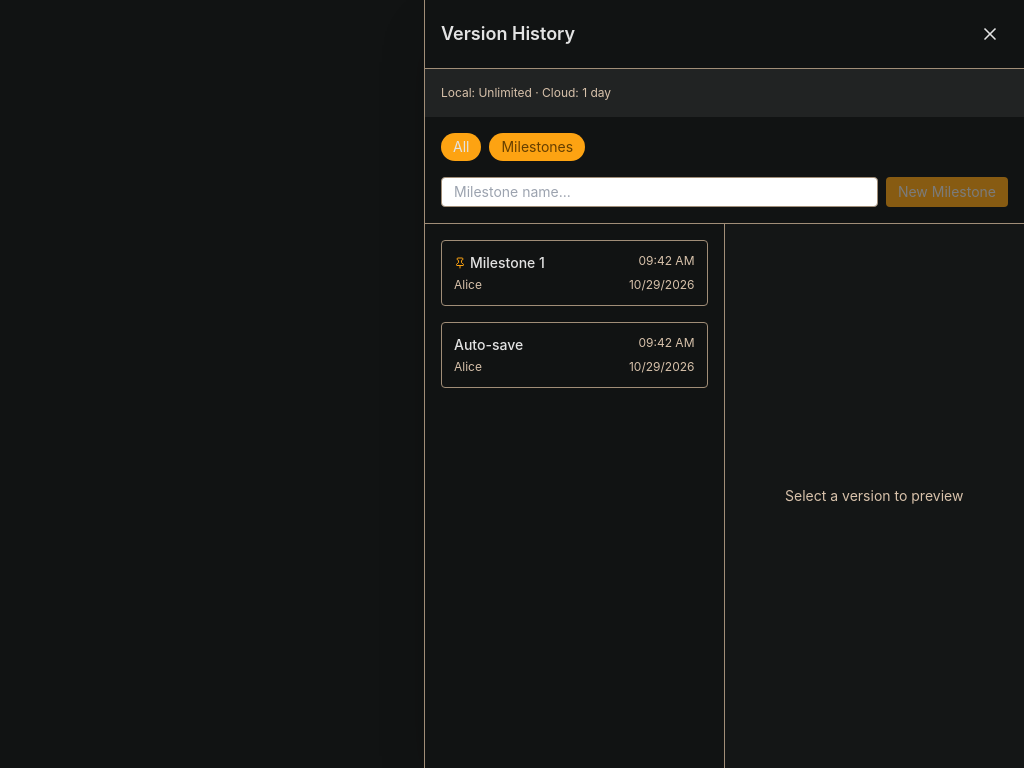
Scenario: VersionHistory UI › VersionDrawer › lists versions and filters by milestone
Check: the text "Milestone 1" is shown, box [470,253,545,273]
Check: the text "Auto-save" is shown, box [454,335,523,355]
Note: Filter to milestones
What coordinates should you click on to do the following:
click the tab "Milestones"
I would click on:
 (537, 147)
Its box is [490,133,585,161].
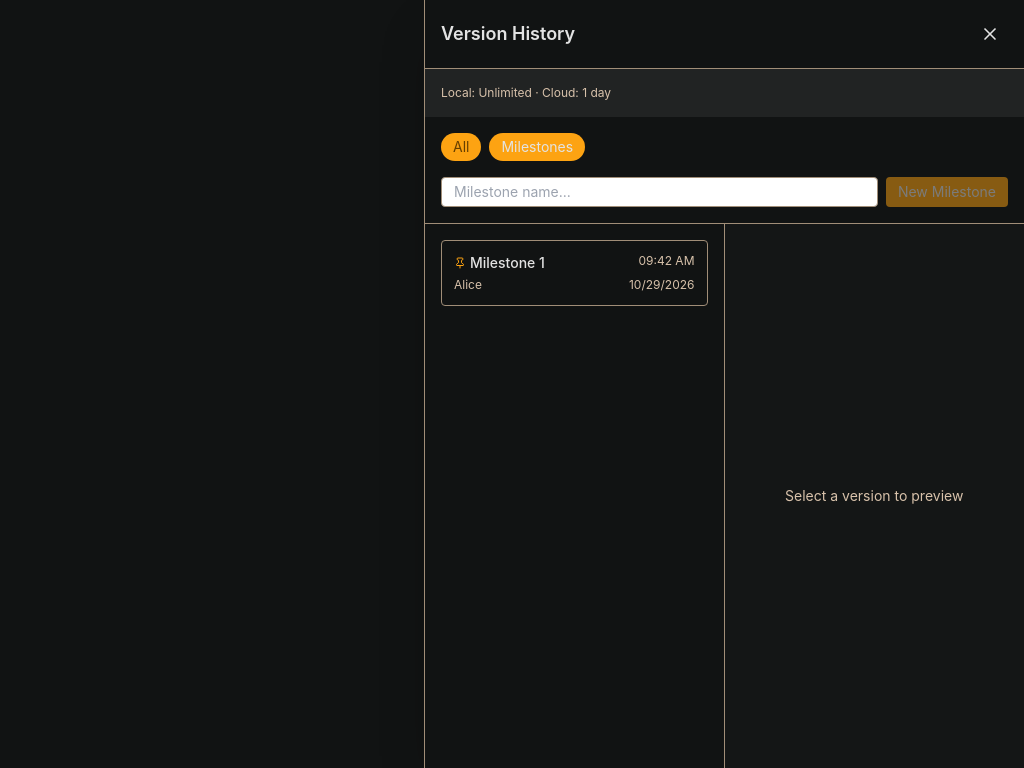
Check: the text "Milestone 1" is shown, box [470,253,545,273]
Check: the button "Auto-save" is gone
